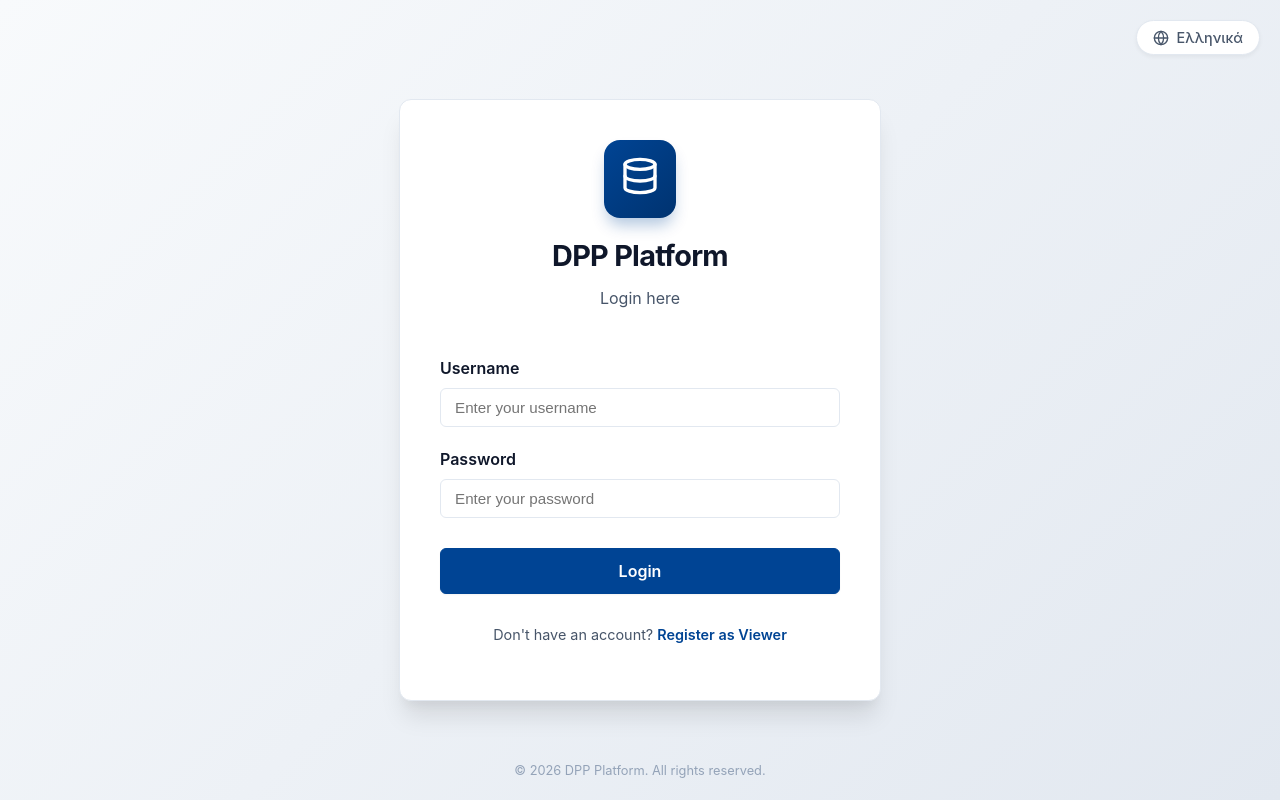
Test: Login Component › handles login failure
The width and height of the screenshot is (1280, 800).
Type "wrong" into the field labelled "Username". click: coordinates (640, 407)
box: x1=440 y1=388 x2=840 y2=427
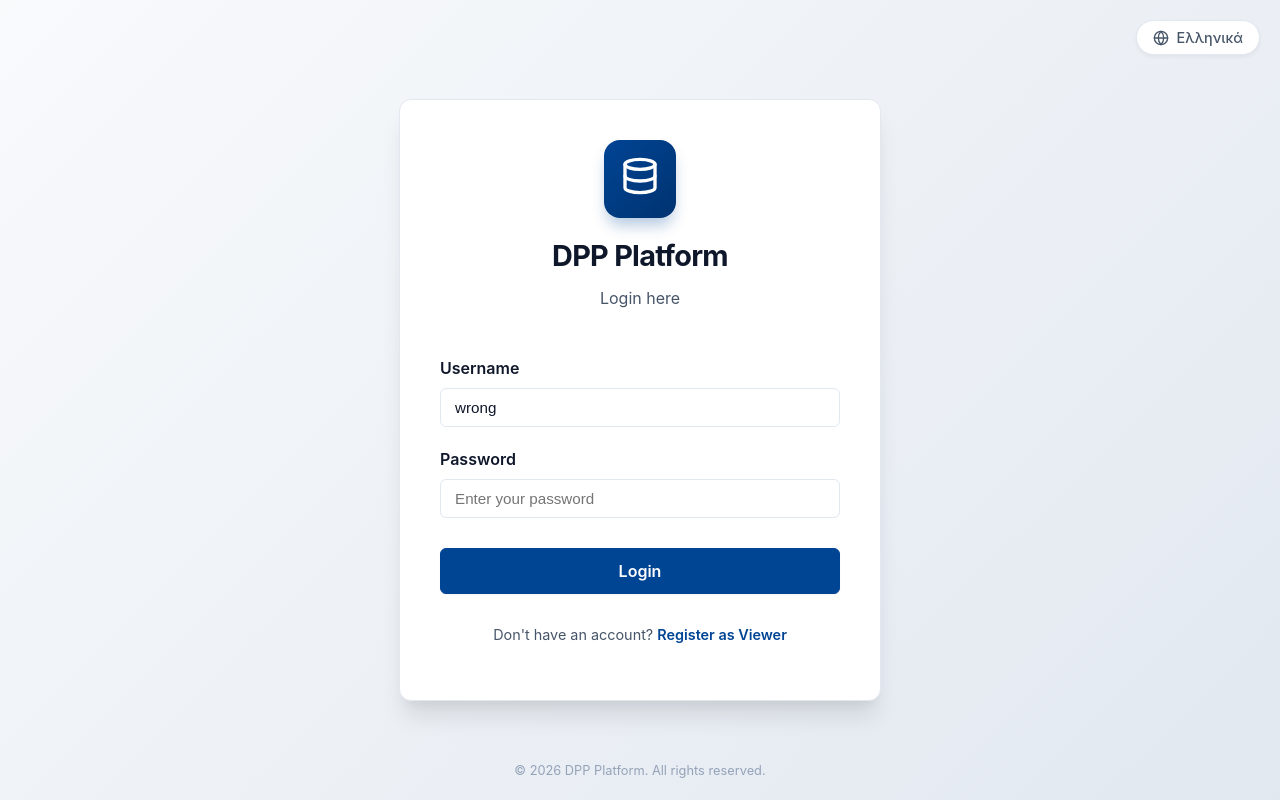
Type "wrong" into the password field labelled "Password". click: coordinates (640, 498)
box: x1=440 y1=479 x2=840 y2=518
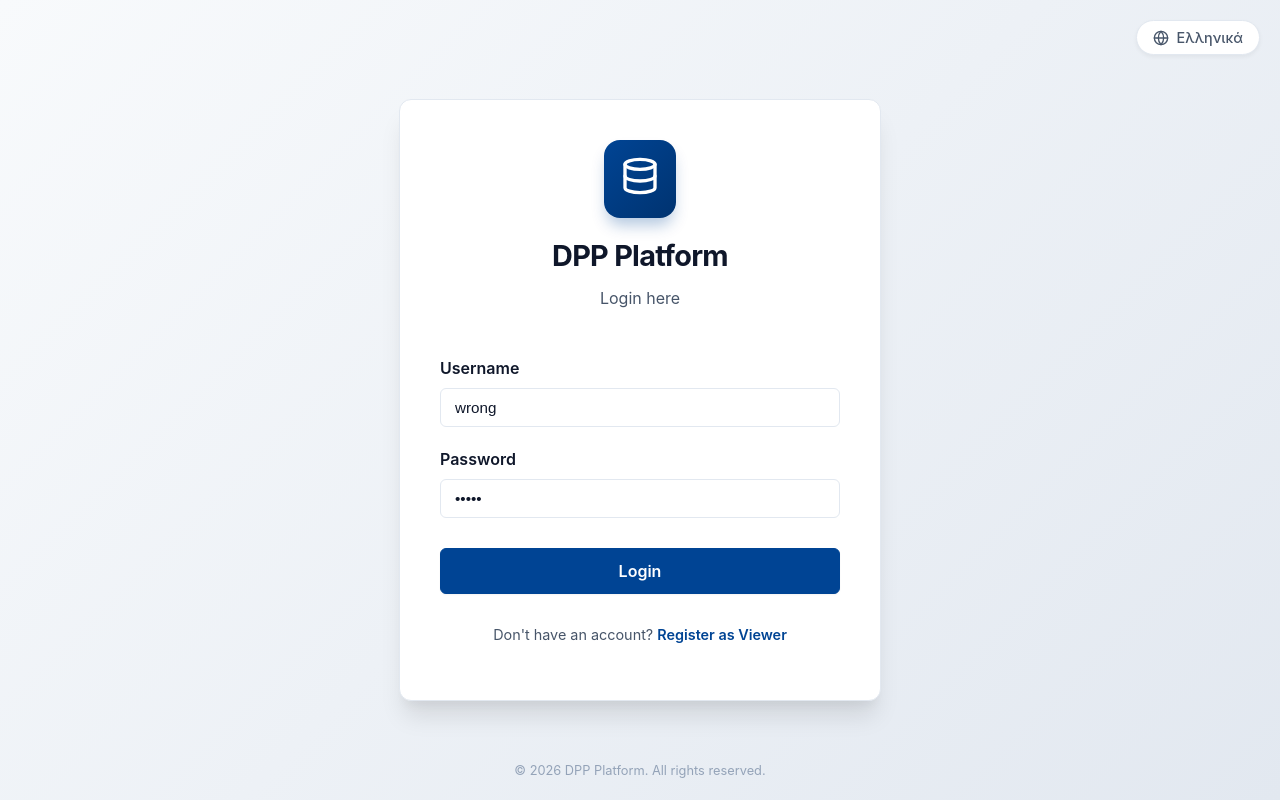
Click the button "Login". click: coordinates (640, 571)
box: x1=440 y1=548 x2=840 y2=594
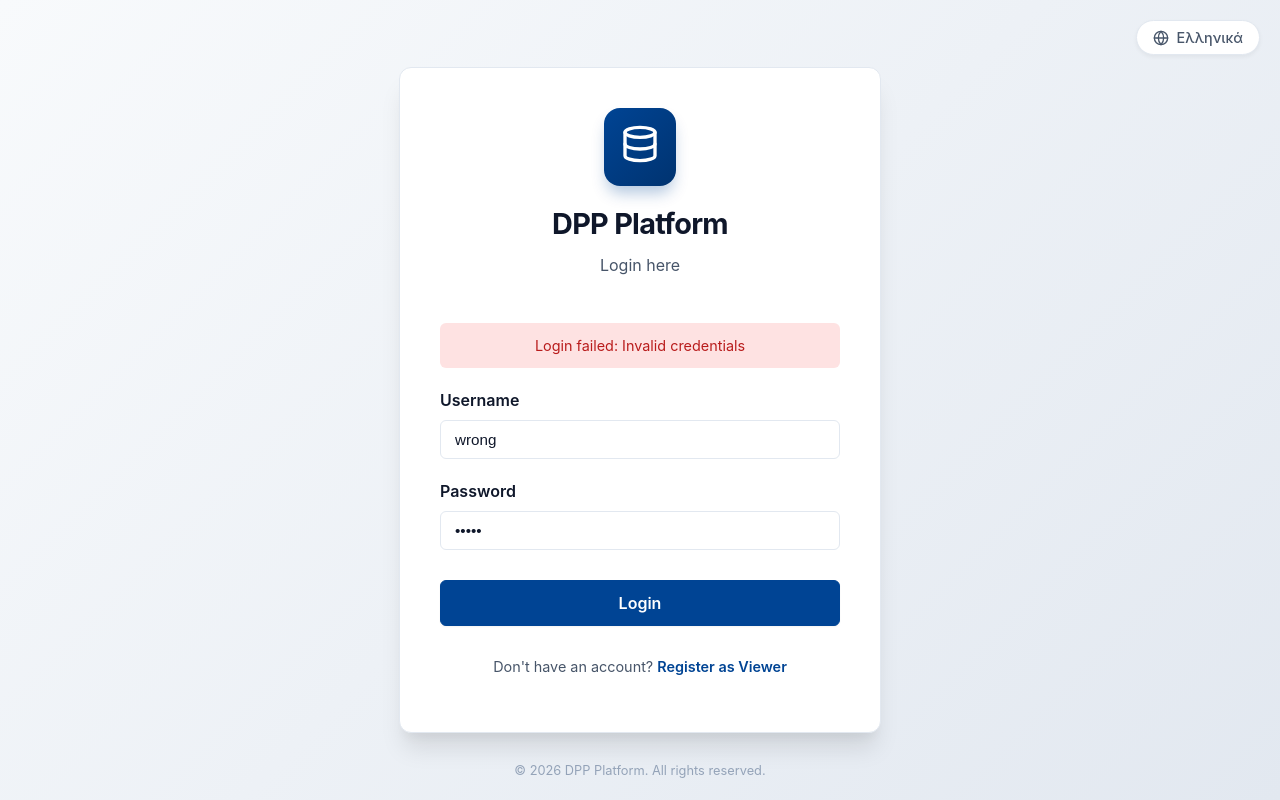
expect the text "Login failed: Invalid credentials" is shown: met, box x1=440 y1=323 x2=840 y2=368
